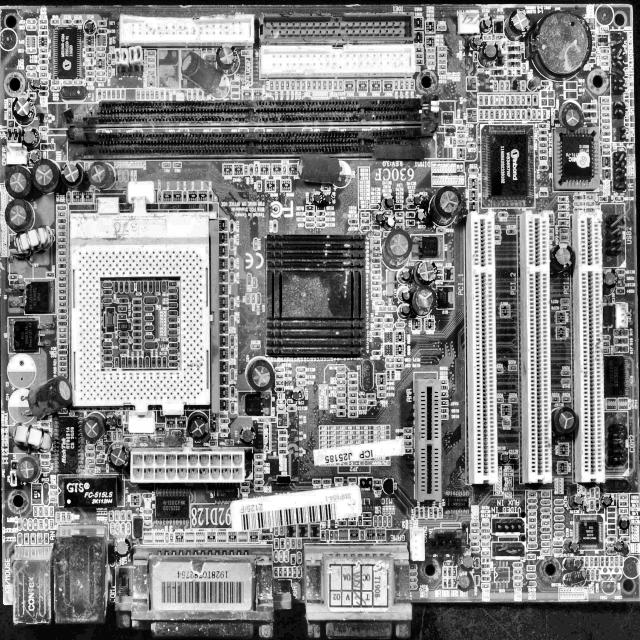PCB: (0, 5, 640, 638)
